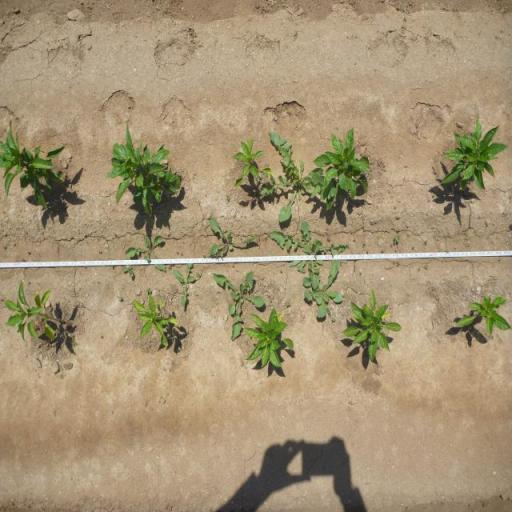plant: (105, 118, 188, 220), (0, 119, 72, 213), (436, 115, 510, 193), (312, 125, 371, 208), (342, 285, 402, 364), (0, 277, 66, 340), (241, 304, 296, 375), (452, 293, 512, 337), (133, 293, 180, 349), (230, 138, 274, 188)
weed: (259, 130, 335, 225), (269, 218, 352, 292), (212, 270, 267, 343), (302, 260, 344, 321), (207, 215, 258, 258), (125, 233, 167, 275), (174, 257, 194, 311), (120, 264, 135, 280), (66, 334, 78, 348), (44, 338, 51, 348), (394, 234, 400, 244), (144, 286, 152, 292), (195, 271, 200, 279), (326, 234, 331, 242), (167, 264, 173, 270), (285, 301, 291, 307), (117, 296, 123, 301), (226, 195, 230, 201), (396, 262, 400, 267), (425, 264, 428, 270)
